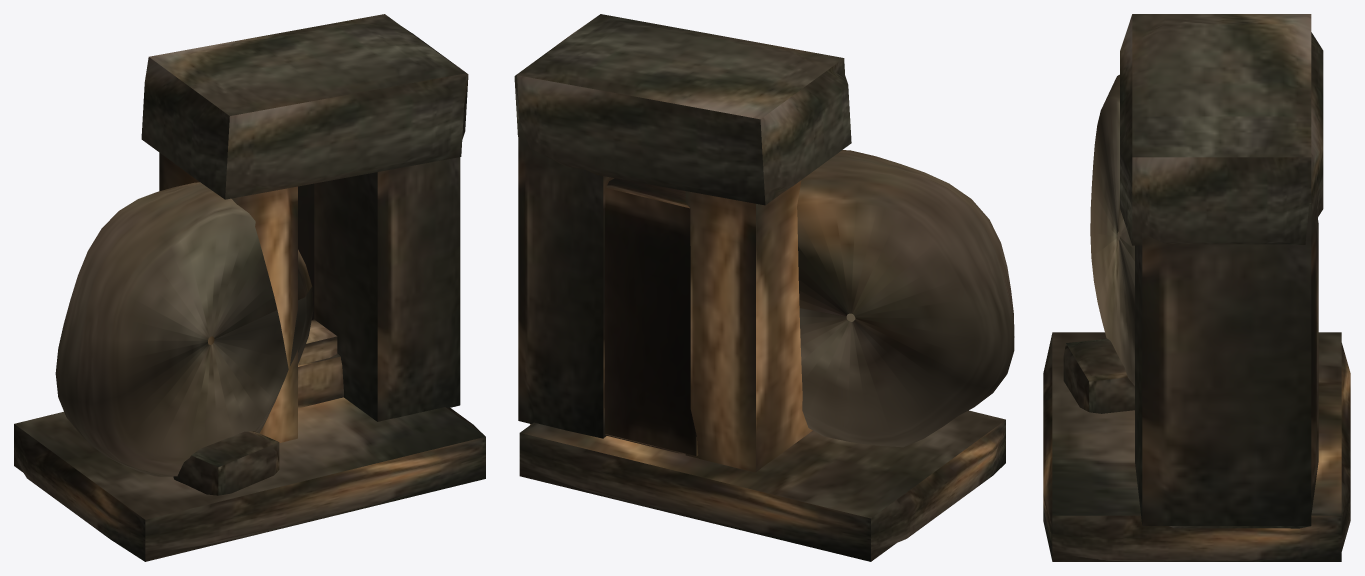
File: rolled-away-stone.glb
3 views of the same model, side by side, from view 1: azimuth 30°, elevation 25°; view 2: azimuth 150°, elevation 25°; view 3: azimuth 270°, elevation 25° (orthographic). The views are drawn at different scales.
Parts seen in each view (by area): view 1: HeroRelicMonument; view 2: HeroRelicMonument; view 3: HeroRelicMonument.
Boxes of the visible parts, left/top/right/bottom form: HeroRelicMonument: left=14, top=14, right=485, bottom=561; HeroRelicMonument: left=514, top=14, right=1014, bottom=561; HeroRelicMonument: left=1043, top=14, right=1350, bottom=561.
Size of the model in its own units: 2.14 by 1.93 by 1.24.
Materials: 1 (1 with a texture image).
